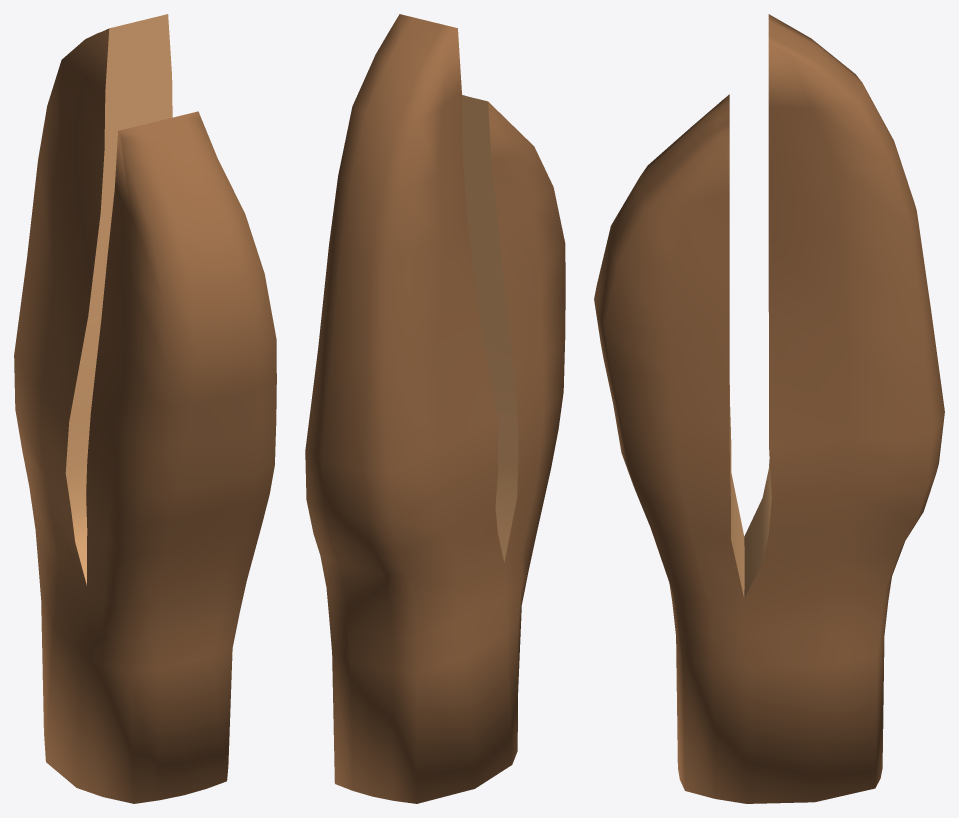
Rendered from Lobster Pincer.fbx.
3 views of the same model, side by side, from view 1: azimuth 30°, elevation 25°; view 2: azimuth 150°, elevation 25°; view 3: azimuth 270°, elevation 25° (orthographic).
Parts seen in each view (by area): view 1: Lobster Pincer - shariar01 (PercyCreeper); view 2: Lobster Pincer - shariar01 (PercyCreeper); view 3: Lobster Pincer - shariar01 (PercyCreeper).
Part boxes in pixels (bbox=[...]): Lobster Pincer - shariar01 (PercyCreeper): bbox=[14, 14, 276, 803]; Lobster Pincer - shariar01 (PercyCreeper): bbox=[305, 14, 565, 803]; Lobster Pincer - shariar01 (PercyCreeper): bbox=[594, 14, 944, 803].
Size of the model in its own units: 23.25 by 112 by 48.34.
